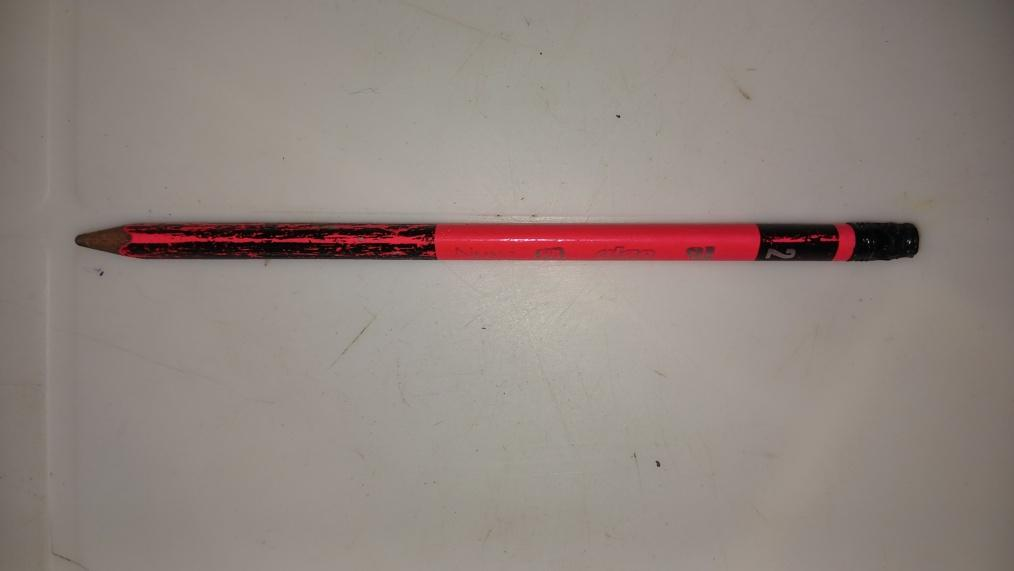Pencil: (70, 219, 919, 262)
